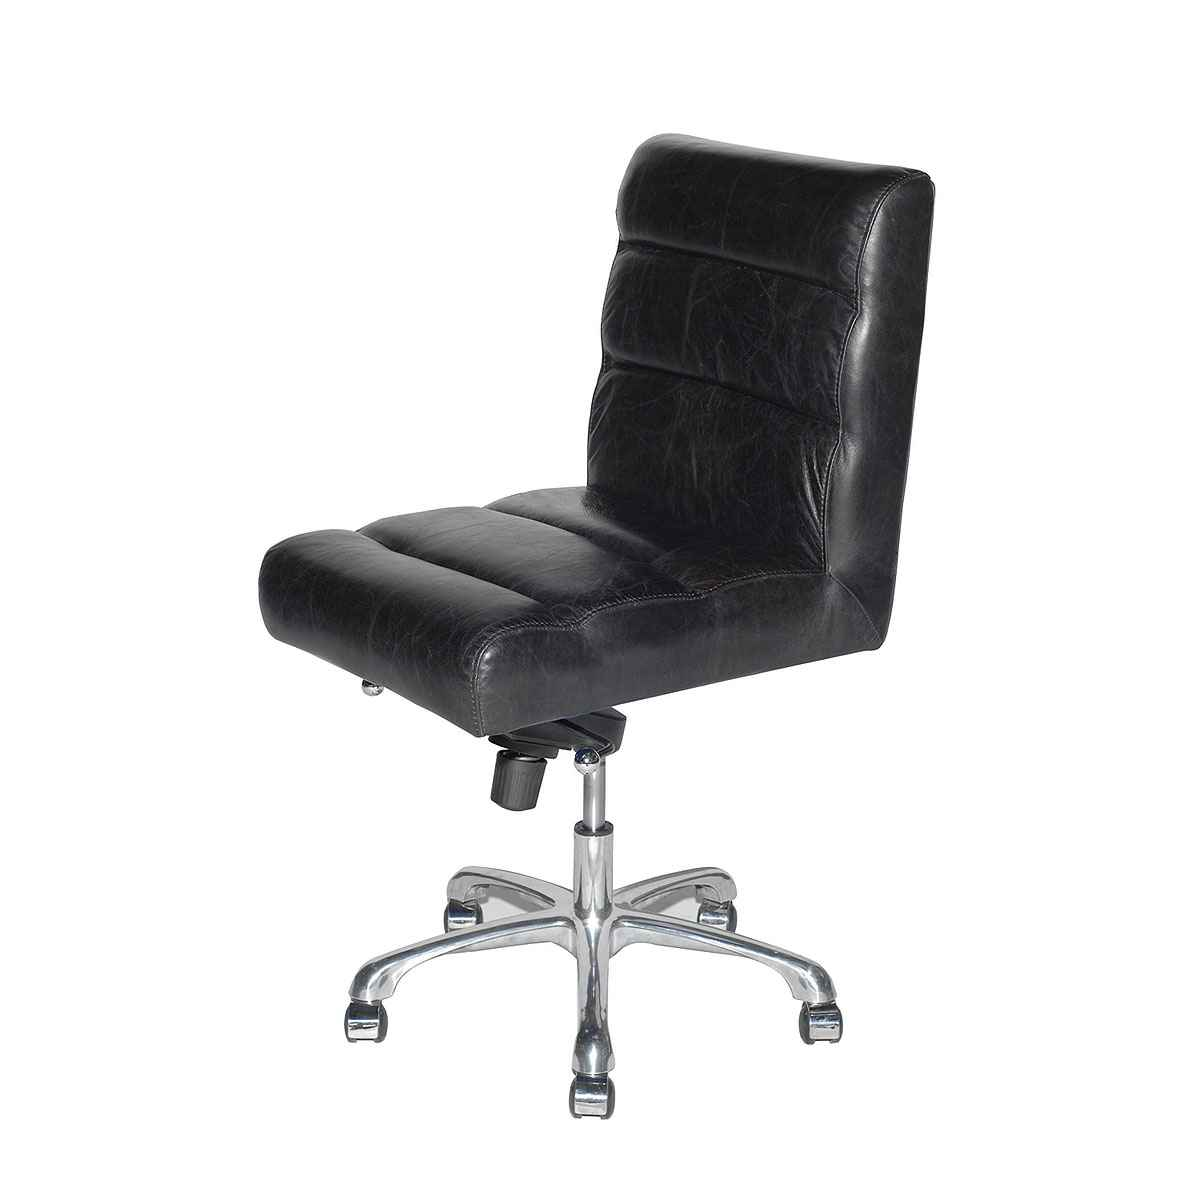chairs: (226, 125, 938, 1127)
